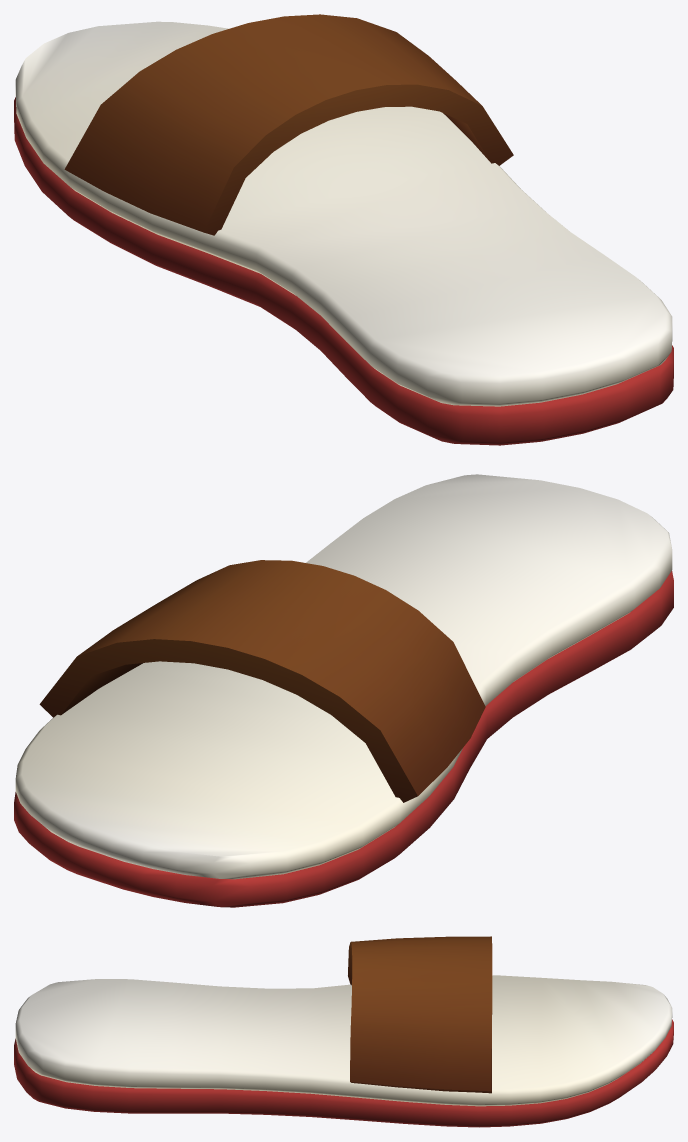
File: dep_le.glb
3 renders of one model, top to bottom at view 1: azimuth 30°, elevation 25°; view 2: azimuth 150°, elevation 25°; view 3: azimuth 270°, elevation 25°, orthographic. The views are drawn at different scales.
Visible parts, largest first — view 1: dep_le; view 2: dep_le; view 3: dep_le.
Boxes of the visible parts, box(x1,y1,x2,y2) form: dep_le: box(14, 14, 673, 445); dep_le: box(14, 474, 673, 907); dep_le: box(14, 936, 673, 1127).
Bounding box in the file's own units: 0.7211 × 0.3075 × 1.6.
Materials: 1 (1 with a texture image).
